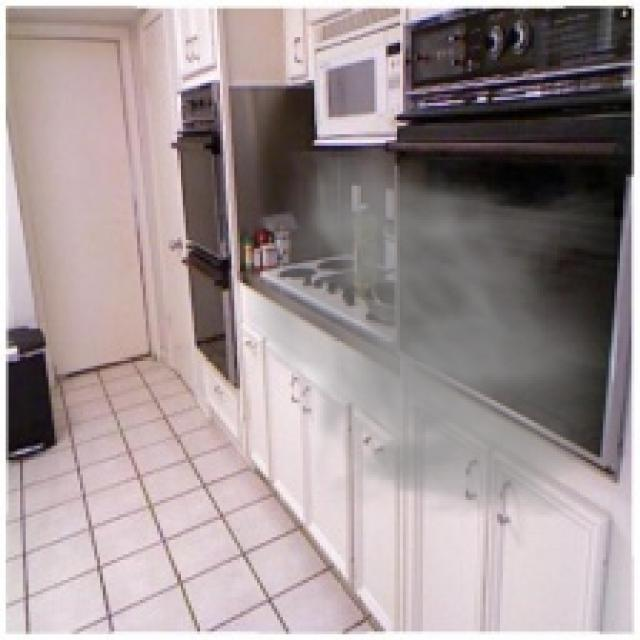Smoke: (232, 152, 614, 517)
